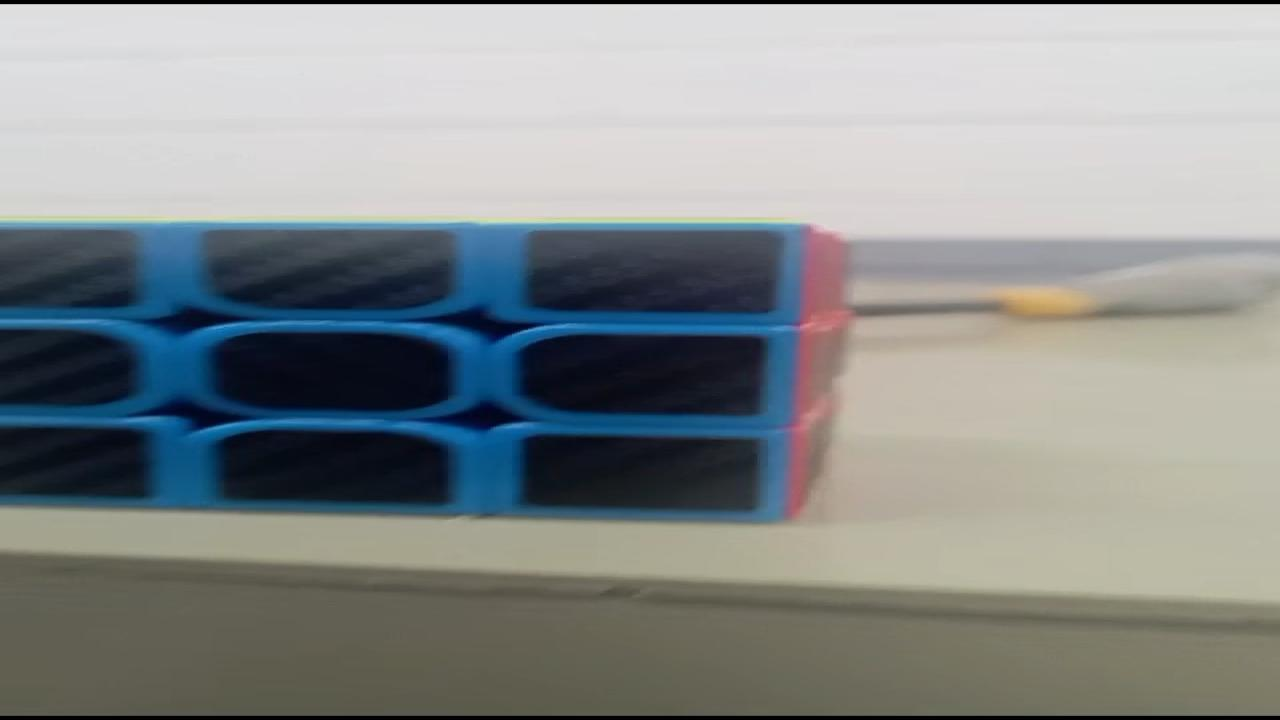Cube: (3, 217, 856, 523)
